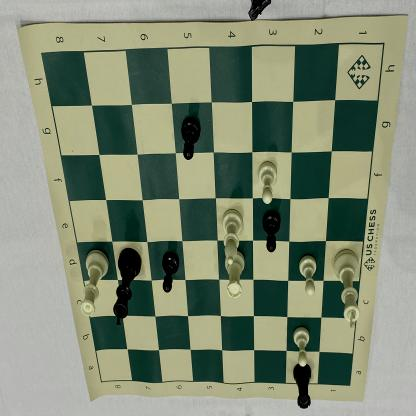black-king: (110, 245, 144, 330)
black-pawn: (177, 115, 204, 164), (260, 207, 283, 256), (160, 249, 182, 298)
black-rook: (290, 360, 316, 412)
white-bishop: (218, 204, 245, 266)
white-king: (330, 247, 363, 335)
white-pawn: (254, 157, 281, 207), (295, 249, 320, 298), (289, 322, 313, 367)
white-queen: (78, 247, 110, 322)
white-rook: (222, 248, 247, 306)
